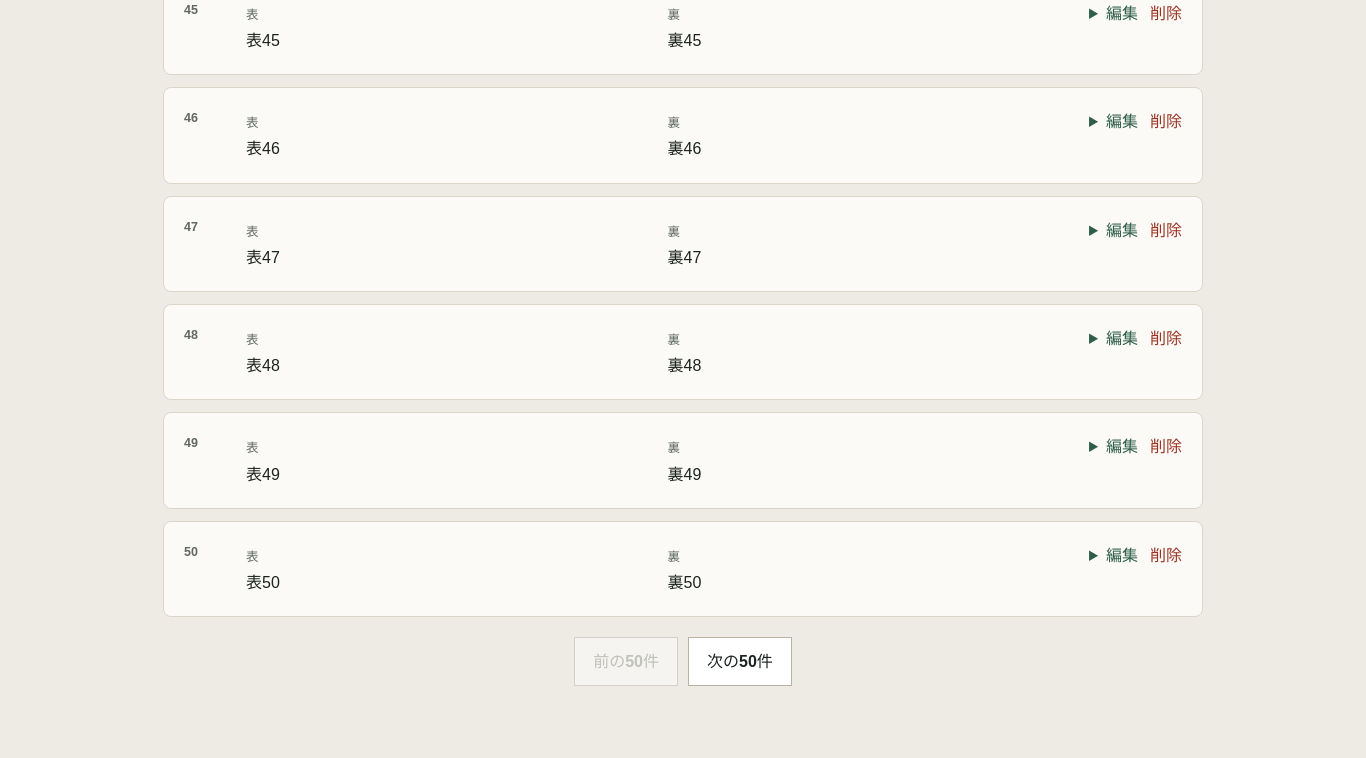
Test: カード一覧のページ送り › 次の50件で51枚目以降を取り出す
(page scrolled)
Click the button "次の50件" at point(740, 662), box [688,637,792,686]
(page scrolled)
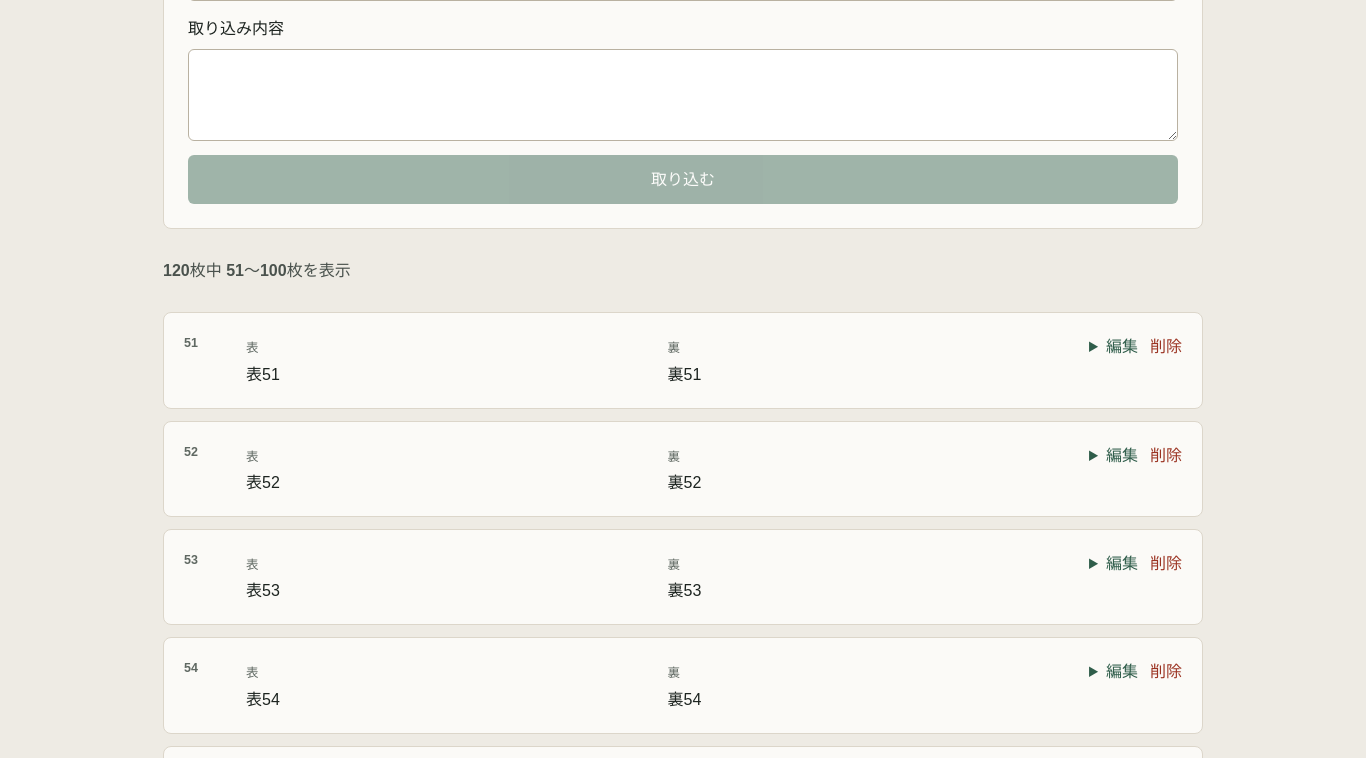
Now the text "120枚中 51〜100枚を表示" is shown, box [163,262,351,279]
Now the text "表51" is shown, box [246,366,280,382]
